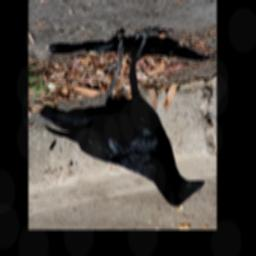Crow: (40, 29, 206, 210)
